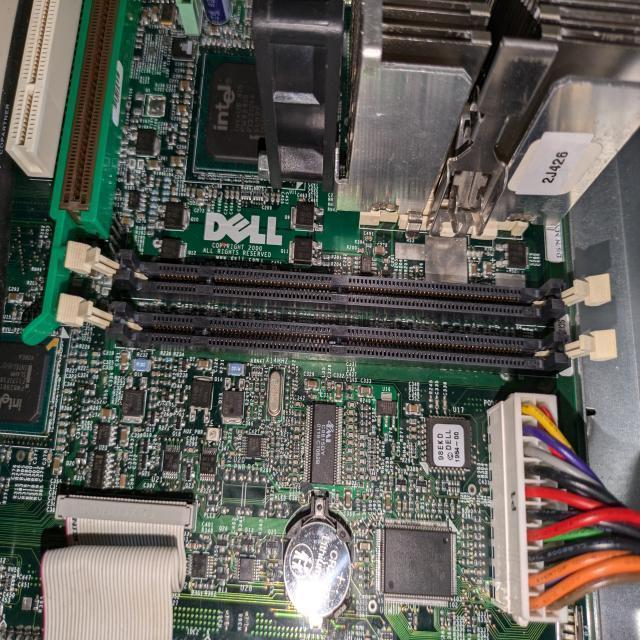CPU_Fan: (251, 0, 640, 216)
Mainboard: (0, 0, 588, 640)
